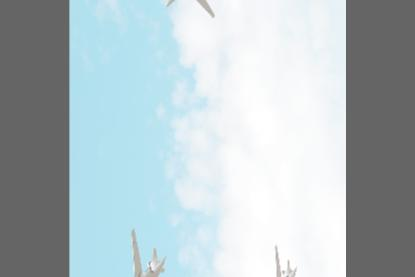Su34: (113, 227, 173, 275), (262, 242, 301, 275), (163, 0, 216, 18)
